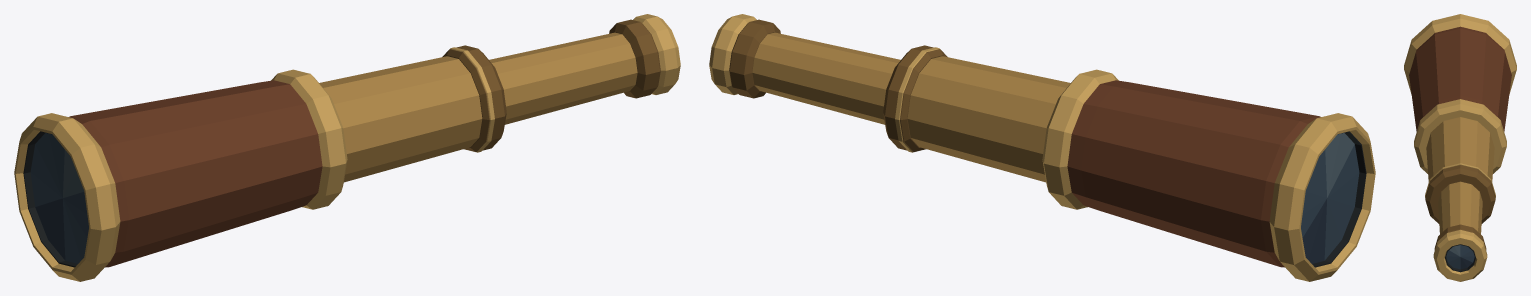
The model's file is Catalejo_antiguo.glb.
The picture shows the model from 3 angles, left to right: view 1: azimuth 30°, elevation 25°; view 2: azimuth 150°, elevation 25°; view 3: azimuth 270°, elevation 25°; orthographic projection. The views are drawn at different scales.
Visible parts, largest first — view 1: 03_Empunadura, 05_Tubo_intermedio, 08_Tubo_ocular, 01_Boca_objetivo, 04_Collar_empunadura, 12_Lente_objetivo_5, 06_Collar_intermedio, 09_Collar_ocular, 10_Borde_ocular, 02_Interior_objetivo, 12_Lente_objetivo_7, 07_Canto_collar_intermedio (+1 smaller); view 2: 03_Empunadura, 05_Tubo_intermedio, 08_Tubo_ocular, 01_Boca_objetivo, 04_Collar_empunadura, 12_Lente_objetivo_5, 06_Collar_intermedio, 09_Collar_ocular, 10_Borde_ocular, 02_Interior_objetivo, 12_Lente_objetivo_6, 12_Lente_objetivo_7 (+1 smaller); view 3: 03_Empunadura, 05_Tubo_intermedio, 04_Collar_empunadura, 01_Boca_objetivo, 08_Tubo_ocular, 06_Collar_intermedio, 10_Borde_ocular, 13_Lente_ocular_5, 09_Collar_ocular, 07_Canto_collar_intermedio, 11_Interior_ocular, 13_Lente_ocular_7 (+1 smaller).
Boxes of the visible parts, x1=… form: 03_Empunadura: x1=69, y1=80, x2=322, y2=267; 05_Tubo_intermedio: x1=319, y1=56, x2=482, y2=182; 08_Tubo_ocular: x1=489, y1=32, x2=637, y2=124; 01_Boca_objetivo: x1=14, y1=113, x2=120, y2=281; 04_Collar_empunadura: x1=271, y1=69, x2=347, y2=209; 12_Lente_objetivo_5: x1=30, y1=133, x2=88, y2=263; 06_Collar_intermedio: x1=442, y1=45, x2=506, y2=151; 09_Collar_ocular: x1=609, y1=19, x2=660, y2=98; 10_Borde_ocular: x1=633, y1=14, x2=680, y2=94; 02_Interior_objetivo: x1=23, y1=131, x2=77, y2=267; 12_Lente_objetivo_7: x1=35, y1=198, x2=65, y2=260; 07_Canto_collar_intermedio: x1=450, y1=47, x2=494, y2=152; 03_Empunadura: x1=1067, y1=80, x2=1320, y2=267; 05_Tubo_intermedio: x1=907, y1=56, x2=1070, y2=182; 08_Tubo_ocular: x1=752, y1=32, x2=900, y2=124; 01_Boca_objetivo: x1=1269, y1=113, x2=1375, y2=281; 04_Collar_empunadura: x1=1042, y1=69, x2=1118, y2=209; 12_Lente_objetivo_5: x1=1301, y1=144, x2=1359, y2=260; 06_Collar_intermedio: x1=883, y1=45, x2=947, y2=151; 09_Collar_ocular: x1=729, y1=19, x2=780, y2=98; 10_Borde_ocular: x1=709, y1=14, x2=756, y2=94; 02_Interior_objetivo: x1=1312, y1=131, x2=1366, y2=267; 12_Lente_objetivo_6: x1=1325, y1=133, x2=1354, y2=197; 12_Lente_objetivo_7: x1=1302, y1=199, x2=1326, y2=263; 03_Empunadura: x1=1409, y1=26, x2=1511, y2=131; 05_Tubo_intermedio: x1=1426, y1=117, x2=1494, y2=181; 04_Collar_empunadura: x1=1414, y1=99, x2=1506, y2=173; 01_Boca_objetivo: x1=1404, y1=14, x2=1516, y2=94; 08_Tubo_ocular: x1=1438, y1=181, x2=1482, y2=233; 06_Collar_intermedio: x1=1425, y1=165, x2=1495, y2=223; 10_Borde_ocular: x1=1433, y1=230, x2=1487, y2=281; 13_Lente_ocular_5: x1=1446, y1=245, x2=1474, y2=269; 09_Collar_ocular: x1=1434, y1=224, x2=1486, y2=250; 07_Canto_collar_intermedio: x1=1425, y1=163, x2=1495, y2=197; 11_Interior_ocular: x1=1445, y1=244, x2=1475, y2=272; 13_Lente_ocular_7: x1=1460, y1=257, x2=1472, y2=269.
Bounding box in the file's own units: 0.47 × 0.114 × 0.114.
